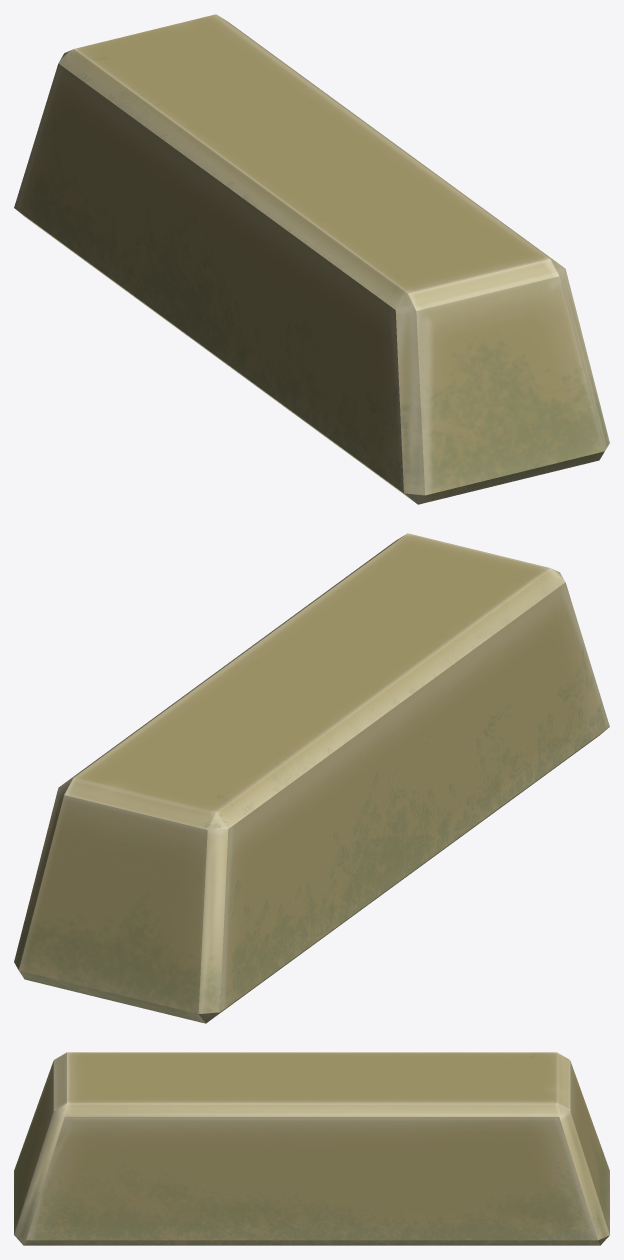
File: gold bar 01.fbx
3 renders of one model, top to bottom at view 1: azimuth 30°, elevation 25°; view 2: azimuth 150°, elevation 25°; view 3: azimuth 270°, elevation 25°, orthographic. The views are drawn at different scales.
Parts seen in each view (by area): view 1: pCube32; view 2: pCube32; view 3: pCube32.
Part boxes in pixels (x1,y1,x2,y2): pCube32: (14,14,609,504); pCube32: (14,533,609,1023); pCube32: (14,1052,609,1245).
Bounding box in the file's own units: 0.9858 × 0.8443 × 3.37.
